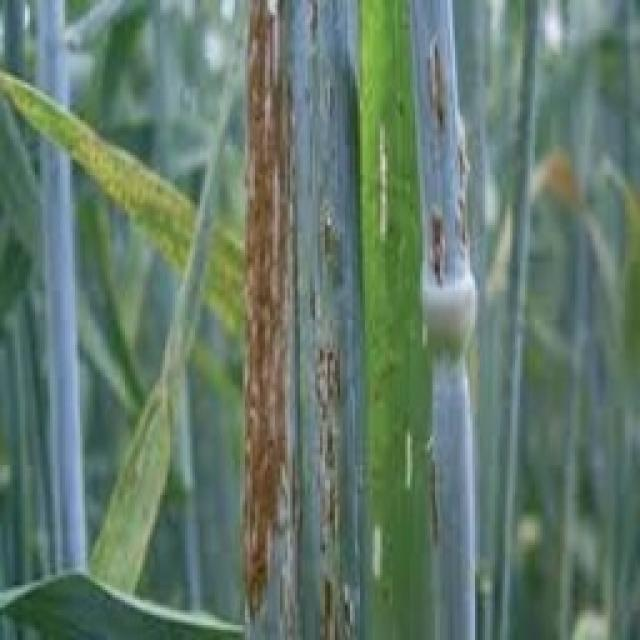Brown Rust: (238, 0, 292, 620)
Healthy Wheat: (0, 0, 638, 638)
